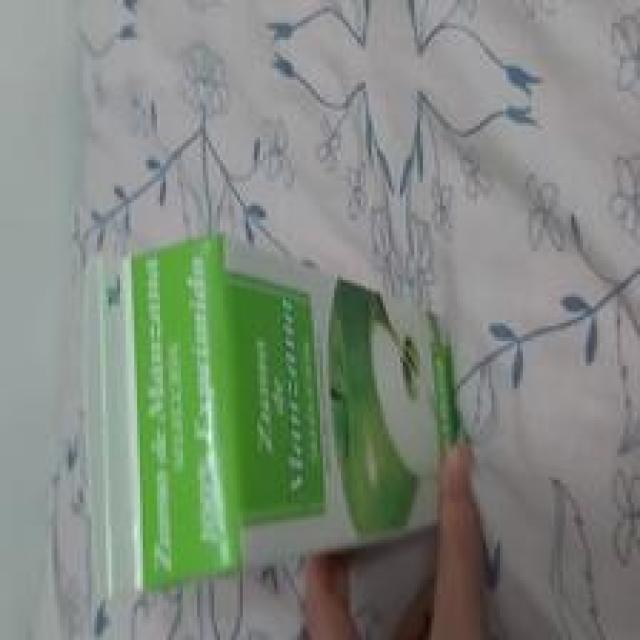Carton: (90, 230, 465, 605)
